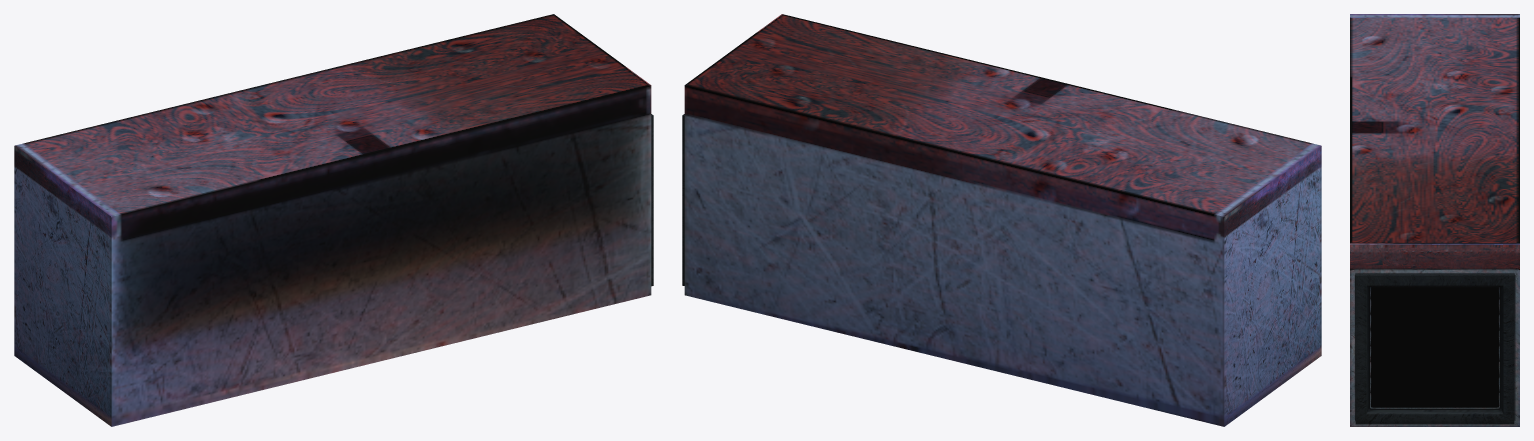
File: Platform5.fbx
The picture shows the model from 3 angles, left to right: view 1: azimuth 30°, elevation 25°; view 2: azimuth 150°, elevation 25°; view 3: azimuth 270°, elevation 25°; orthographic projection. The views are drawn at different scales.
Parts seen in each view (by area): view 1: Platform 5; view 2: Platform 5; view 3: Platform 5.
Part boxes in pixels (x1,y1,x2,y2): Platform 5: (14,14,653,426); Platform 5: (682,14,1321,426); Platform 5: (1350,14,1519,426).
Bounding box in the file's own units: 422 × 155 × 130.
